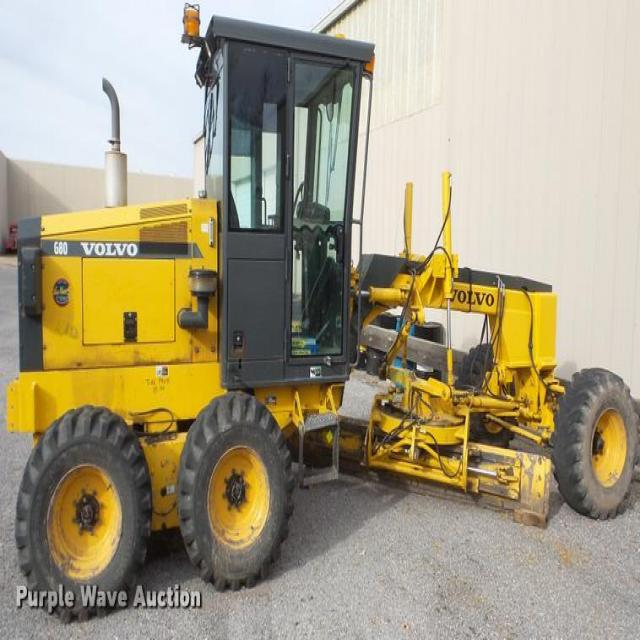Grader: (10, 10, 639, 604)
